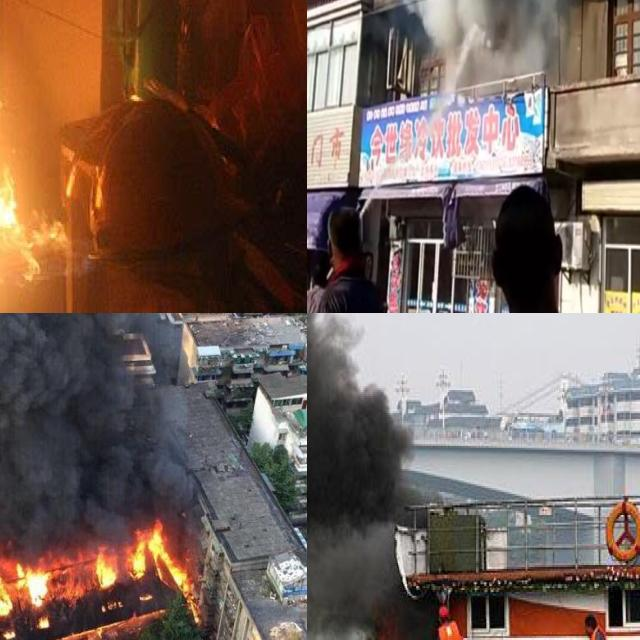fire: (0, 513, 200, 628), (434, 607, 462, 640), (372, 630, 394, 640)
smoke: (0, 313, 200, 543), (307, 313, 443, 640), (402, 0, 572, 92)
